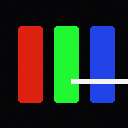3 line_h: (71, 79, 127, 83)
